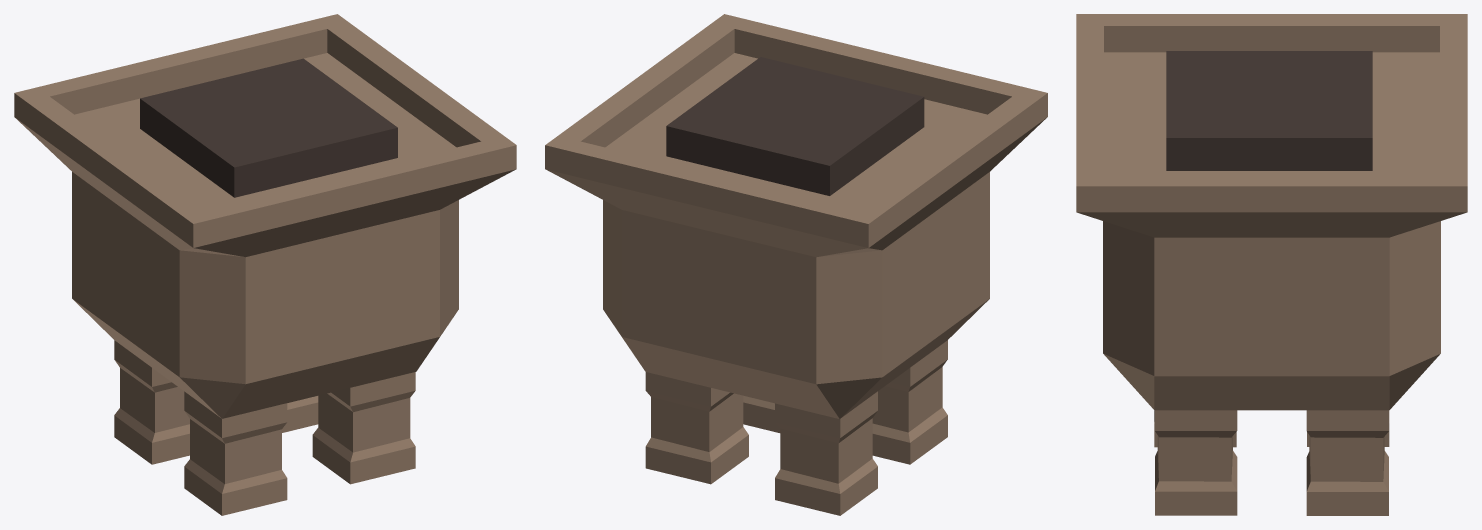
Rendered from w_r_showcase.glb.
The picture shows the model from 3 angles, left to right: view 1: azimuth 30°, elevation 25°; view 2: azimuth 150°, elevation 25°; view 3: azimuth 270°, elevation 25°; orthographic projection. The views are drawn at different scales.
Visible parts, largest first — view 1: Body, Feet, Pillow; view 2: Body, Feet, Pillow; view 3: Body, Pillow, Feet.
Part boxes in pixels (x1,y1,x2,y2): Body: [14, 14, 516, 418]; Feet: [114, 340, 415, 515]; Pillow: [140, 58, 397, 197]; Body: [545, 14, 1047, 418]; Feet: [645, 340, 947, 515]; Pillow: [666, 57, 924, 195]; Body: [1076, 14, 1467, 410]; Pillow: [1166, 51, 1372, 170]; Feet: [1154, 410, 1389, 515].
Size of the model in its own units: 1.98 by 1.99 by 1.9.
